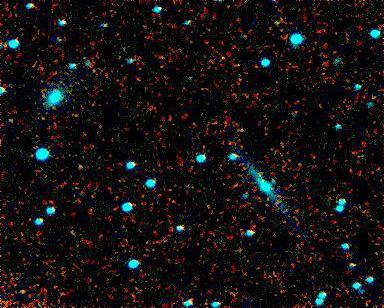star: (64, 154, 94, 184)
